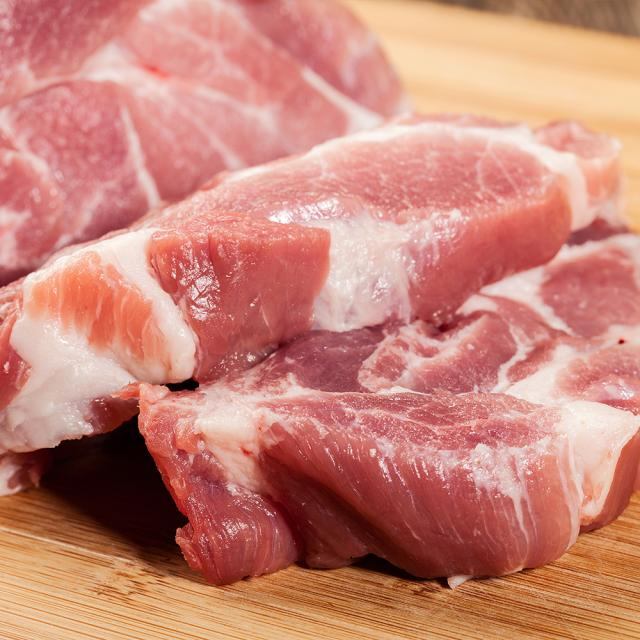pork: (1, 111, 638, 586), (137, 382, 640, 584), (1, 228, 256, 382)
